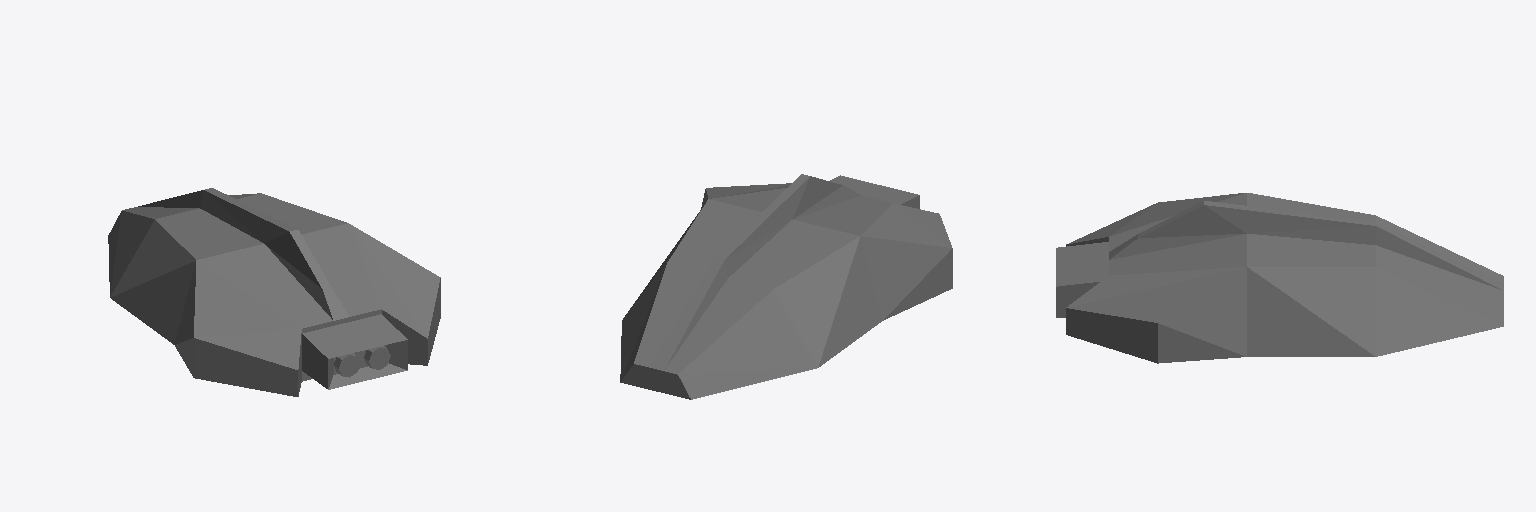
The picture shows the model from 3 angles: view 1: azimuth 30°, elevation 25°; view 2: azimuth 150°, elevation 25°; view 3: azimuth 270°, elevation 25°; orthographic projection.
Parts seen in each view (by area): view 1: RACER_01:pCube1, RACER_01:pPlane1, RACER_01:pCube2; view 2: RACER_01:pCube1, RACER_01:pPlane1, RACER_01:pCube2; view 3: RACER_01:pCube1, RACER_01:pPlane1, RACER_01:pCube2.
Part boxes in pixels (bbox=[...]): RACER_01:pCube1: bbox=[108, 193, 440, 396]; RACER_01:pPlane1: bbox=[138, 188, 348, 320]; RACER_01:pCube2: bbox=[302, 314, 407, 389]; RACER_01:pCube1: bbox=[620, 183, 952, 399]; RACER_01:pPlane1: bbox=[648, 174, 861, 370]; RACER_01:pCube2: bbox=[830, 175, 919, 208]; RACER_01:pCube1: bbox=[1066, 193, 1503, 363]; RACER_01:pPlane1: bbox=[1109, 201, 1503, 290]; RACER_01:pCube2: bbox=[1056, 242, 1108, 317].
Size of the model in its own units: 317 by 130 by 498.